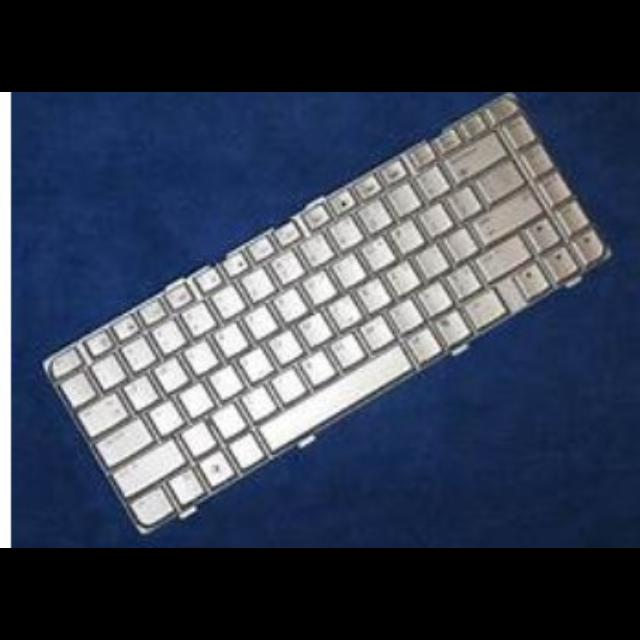Computer-Keyboard: (40, 94, 611, 536)
